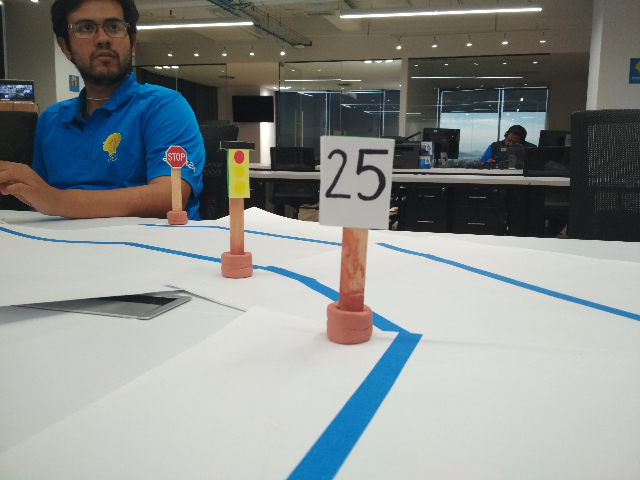Red Traffic Light: (217, 138, 257, 199)
Speed Limit 25: (314, 133, 393, 229)
Stop Sign: (164, 144, 188, 170)
